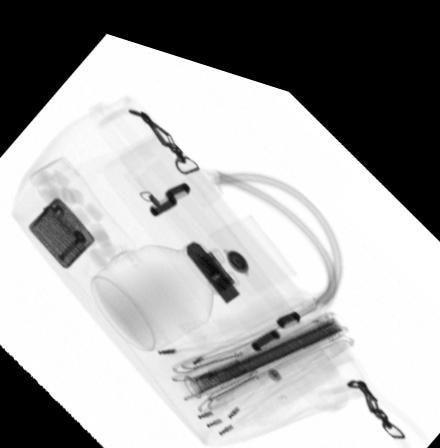Lighter: (26, 193, 96, 265)
